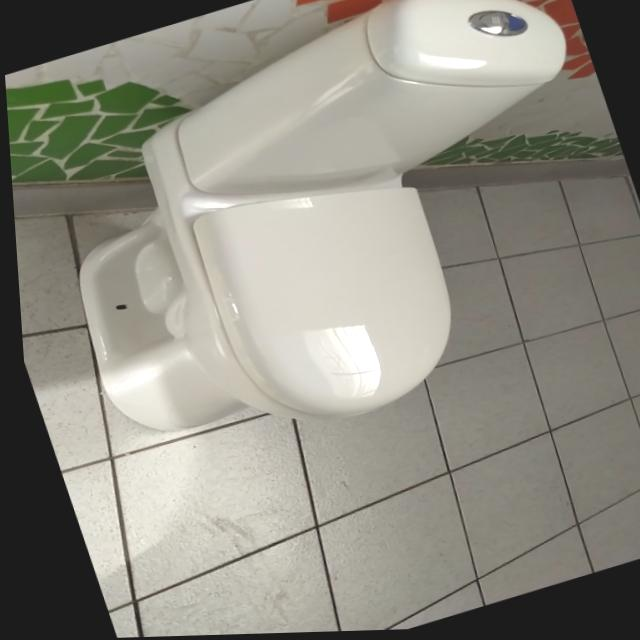toilet: (1, 0, 640, 486)
